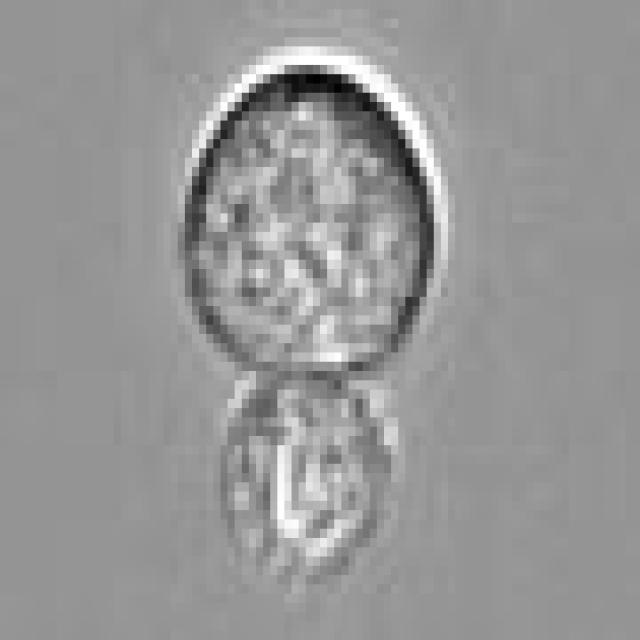Cancer Cell: (185, 65, 441, 380)
WBC: (221, 371, 391, 575)
